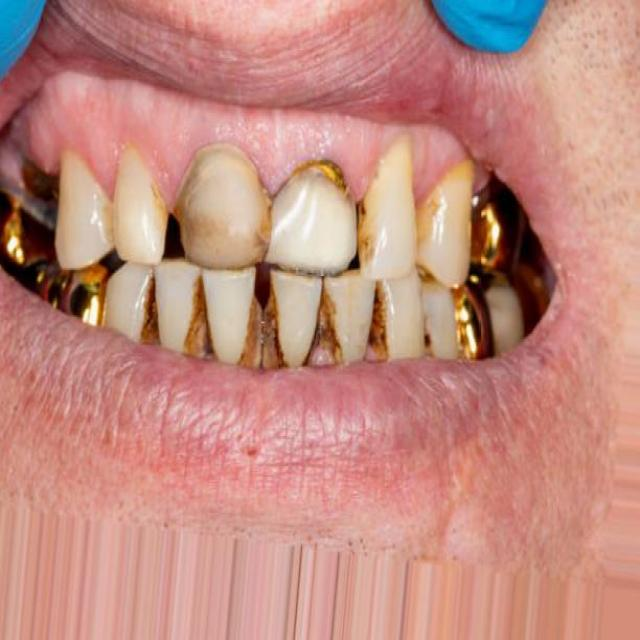caries: (310, 149, 351, 200)
